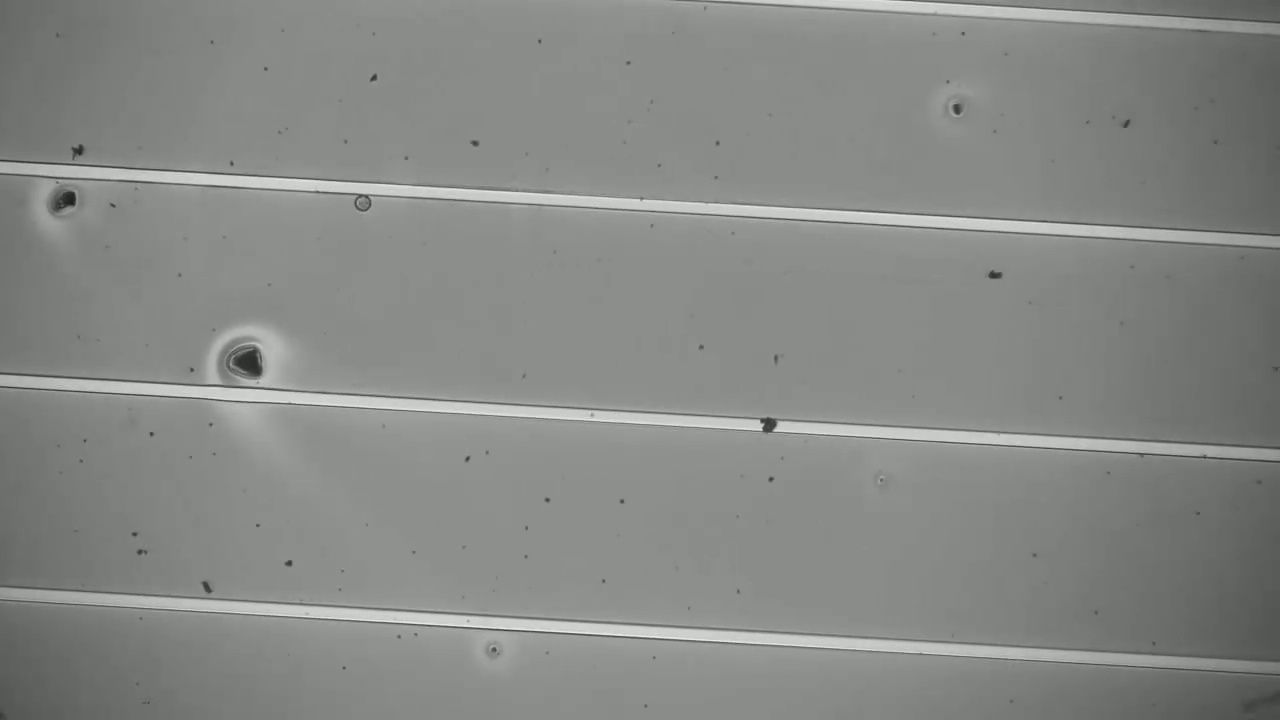stains_enbedded: (755, 408, 786, 439)
